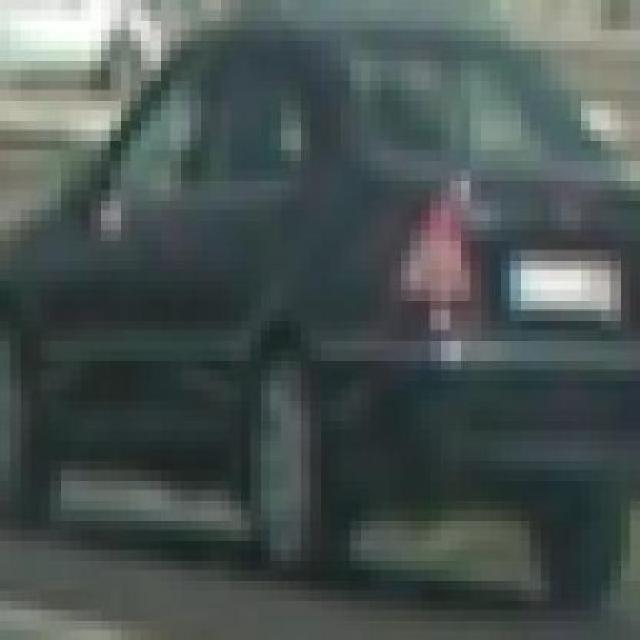vehicle: (0, 0, 630, 600)
